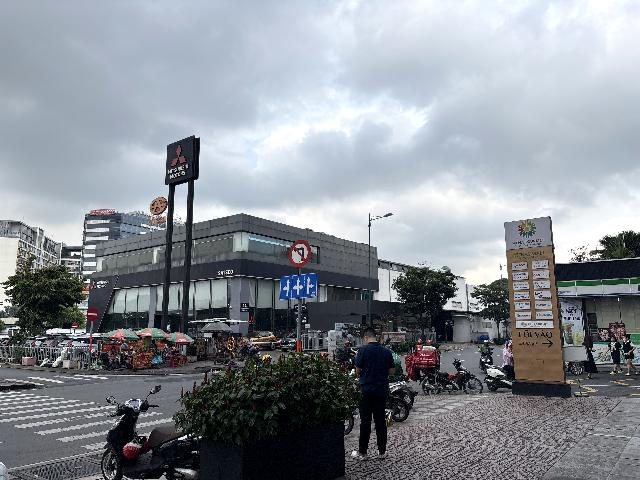cam-di-nguoc-chieu: (86, 307, 100, 322)
cam-re-trai: (289, 239, 311, 268)
